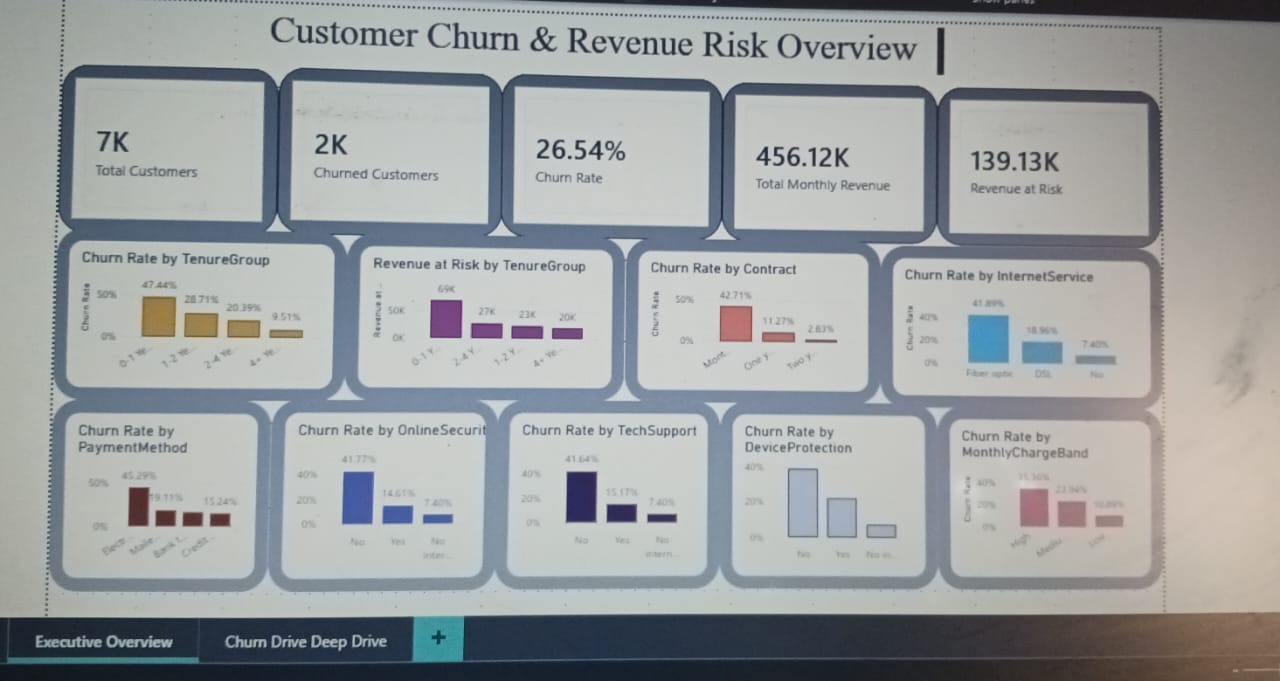

What the dashboard file says about the page in this screenshot:
{"tool":"powerbi","page":{"name":"Executive Overview","canvas":[1280,720],"ordinal":0},"visuals":[{"type":"cardVisual","fields":{"Data":["_Measures.Total Customers"]},"box":[0,75.3,240.7,190.5],"z":0},{"type":"cardVisual","fields":{"Data":["_Measures.Churned Customers"]},"box":[240.7,72.4,252.6,190.5],"z":1000},{"type":"cardVisual","fields":{"Data":["_Measures.Churn Rate"]},"box":[493.3,70.9,259.9,190.5],"z":2000},{"type":"cardVisual","fields":{"Data":["_Measures.Total Monthly Revenue"]},"box":[753.2,73.8,257,189],"z":3000},{"type":"cardVisual","fields":{"Data":["_Measures.Revenue at Risk"]},"box":[1010.2,75.3,270.3,189],"z":4000},{"type":"clusteredColumnChart","fields":{"Category":["WA_Fn-UseC_-Telco-Customer-Churn.TenureGroup"],"Y":["_Measures.Churn Rate"]},"box":[0,261.4,320.5,193.5],"z":5000},{"type":"clusteredColumnChart","fields":{"Category":["WA_Fn-UseC_-Telco-Customer-Churn.TenureGroup"],"Y":["_Measures.Revenue at Risk"]},"box":[320.5,261.4,319,192],"z":6000},{"type":"textbox","box":[224.5,0,797.5,70.9],"z":7000},{"type":"clusteredColumnChart","fields":{"Category":["WA_Fn-UseC_-Telco-Customer-Churn.Contract"],"Y":["_Measures.Churn Rate"]},"box":[639.5,261.4,302.8,193.5],"z":8000},{"type":"clusteredColumnChart","fields":{"Category":["WA_Fn-UseC_-Telco-Customer-Churn.InternetService"],"Y":["_Measures.Churn Rate"]},"box":[942.3,265.8,338.2,192],"z":9000},{"type":"clusteredColumnChart","fields":{"Category":["WA_Fn-UseC_-Telco-Customer-Churn.PaymentMethod"],"Y":["_Measures.Churn Rate"]},"box":[0,454.9,240.7,214.2],"z":10000},{"type":"clusteredColumnChart","fields":{"Category":["WA_Fn-UseC_-Telco-Customer-Churn.OnlineSecurity"],"Y":["_Measures.Churn Rate"]},"box":[240.7,453.4,252.6,215.6],"z":11000},{"type":"clusteredColumnChart","fields":{"Category":["WA_Fn-UseC_-Telco-Customer-Churn.TechSupport"],"Y":["_Measures.Churn Rate"]},"box":[493.3,453.4,259.9,215.6],"z":11001},{"type":"clusteredColumnChart","fields":{"Category":["WA_Fn-UseC_-Telco-Customer-Churn.DeviceProtection"],"Y":["_Measures.Churn Rate"]},"box":[753.2,453.4,257,215.6],"z":11002},{"type":"clusteredColumnChart","fields":{"Category":["WA_Fn-UseC_-Telco-Customer-Churn.MonthlyChargeBand"],"Y":["_Measures.Churn Rate"]},"box":[1010.2,456.4,270.3,212.7],"z":11003}]}

Visuals, with their boxes on the page's 1280x720 design canvas (x1, y1, x2, y2). These are canvas units, not pixel positions in the 1280x681 screenshot, which may show the page scaled, cropped or inside an application window:
cardVisual - _Measures.Total Customers: (0,75,241,266)
cardVisual - _Measures.Churned Customers: (241,72,493,263)
cardVisual - _Measures.Churn Rate: (493,71,753,261)
cardVisual - _Measures.Total Monthly Revenue: (753,74,1010,263)
cardVisual - _Measures.Revenue at Risk: (1010,75,1280,264)
clusteredColumnChart - WA_Fn-UseC_-Telco-Customer-Churn.TenureGroup x _Measures.Churn Rate: (0,261,320,455)
clusteredColumnChart - WA_Fn-UseC_-Telco-Customer-Churn.TenureGroup x _Measures.Revenue at Risk: (320,261,640,453)
textbox: (224,0,1022,71)
clusteredColumnChart - WA_Fn-UseC_-Telco-Customer-Churn.Contract x _Measures.Churn Rate: (640,261,942,455)
clusteredColumnChart - WA_Fn-UseC_-Telco-Customer-Churn.InternetService x _Measures.Churn Rate: (942,266,1280,458)
clusteredColumnChart - WA_Fn-UseC_-Telco-Customer-Churn.PaymentMethod x _Measures.Churn Rate: (0,455,241,669)
clusteredColumnChart - WA_Fn-UseC_-Telco-Customer-Churn.OnlineSecurity x _Measures.Churn Rate: (241,453,493,669)
clusteredColumnChart - WA_Fn-UseC_-Telco-Customer-Churn.TechSupport x _Measures.Churn Rate: (493,453,753,669)
clusteredColumnChart - WA_Fn-UseC_-Telco-Customer-Churn.DeviceProtection x _Measures.Churn Rate: (753,453,1010,669)
clusteredColumnChart - WA_Fn-UseC_-Telco-Customer-Churn.MonthlyChargeBand x _Measures.Churn Rate: (1010,456,1280,669)
